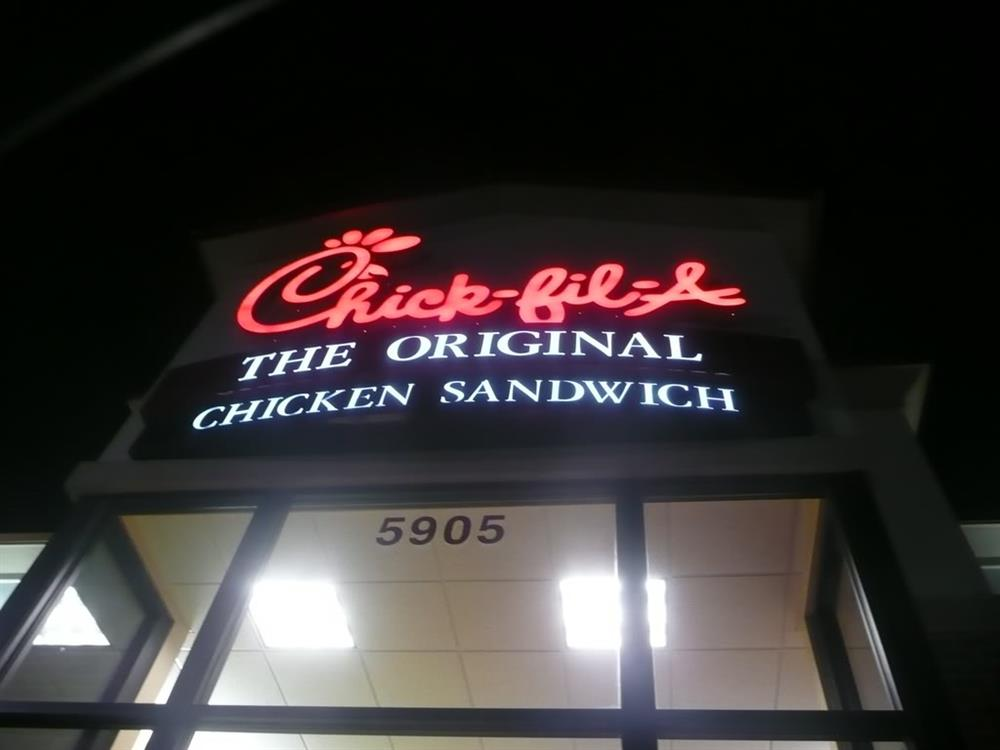Chick_Fil_A: (248, 211, 744, 341)
